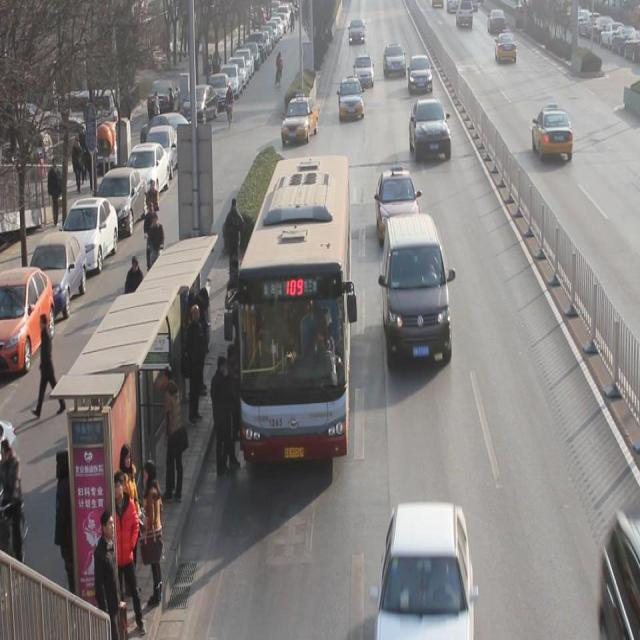car: (378, 501, 473, 640), (375, 165, 420, 242), (409, 98, 452, 159), (532, 103, 574, 160), (282, 92, 319, 144), (338, 76, 363, 122), (408, 54, 433, 93), (495, 29, 517, 65), (384, 43, 406, 77), (354, 52, 374, 88)
truck: (383, 212, 452, 366)
van: (236, 156, 348, 452)
